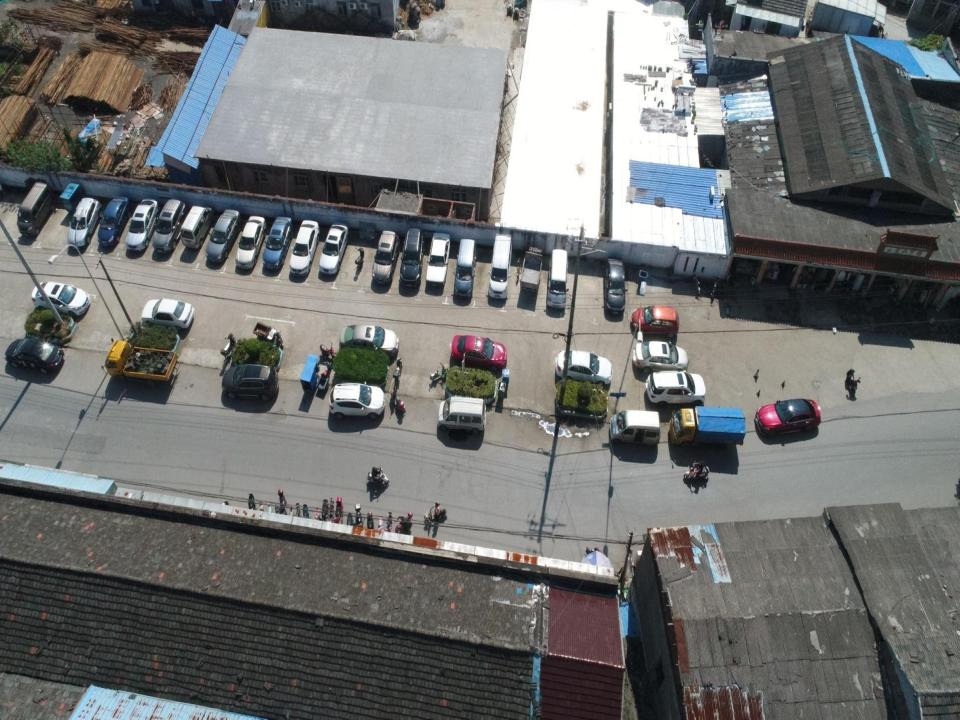car: (755, 400, 822, 438), (555, 349, 612, 388), (5, 337, 64, 374), (644, 371, 706, 405), (222, 365, 280, 401), (329, 383, 385, 420), (31, 282, 90, 316), (339, 325, 399, 358), (450, 335, 508, 369), (68, 198, 101, 254), (153, 198, 186, 254), (632, 341, 689, 373), (206, 210, 241, 262), (140, 296, 194, 328), (128, 198, 159, 252), (627, 306, 679, 338), (290, 221, 320, 276), (236, 215, 266, 269), (262, 217, 292, 270), (98, 198, 128, 250), (373, 231, 400, 286), (320, 224, 348, 276), (401, 228, 424, 286), (603, 258, 626, 316), (427, 233, 450, 287)
truck: (670, 397, 745, 450), (106, 341, 179, 388)
van: (16, 182, 51, 237), (610, 410, 660, 448), (437, 395, 486, 433), (182, 204, 214, 250), (489, 235, 512, 299), (546, 249, 569, 310), (454, 239, 476, 299)
